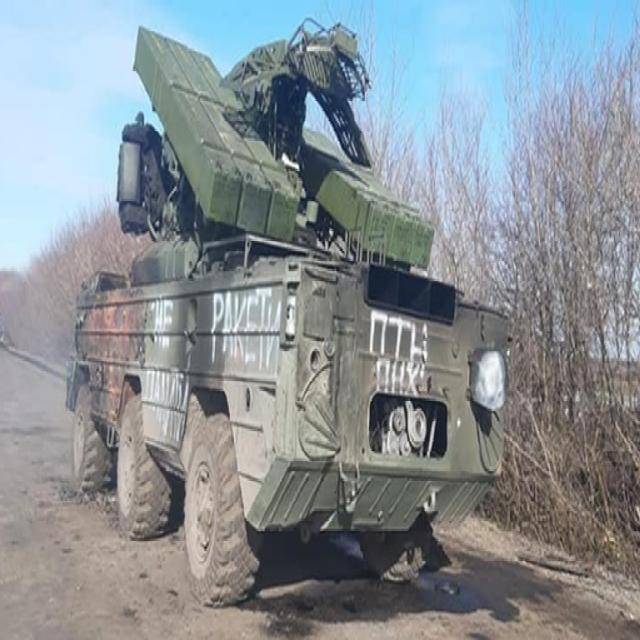MLRS: (61, 22, 511, 616)
